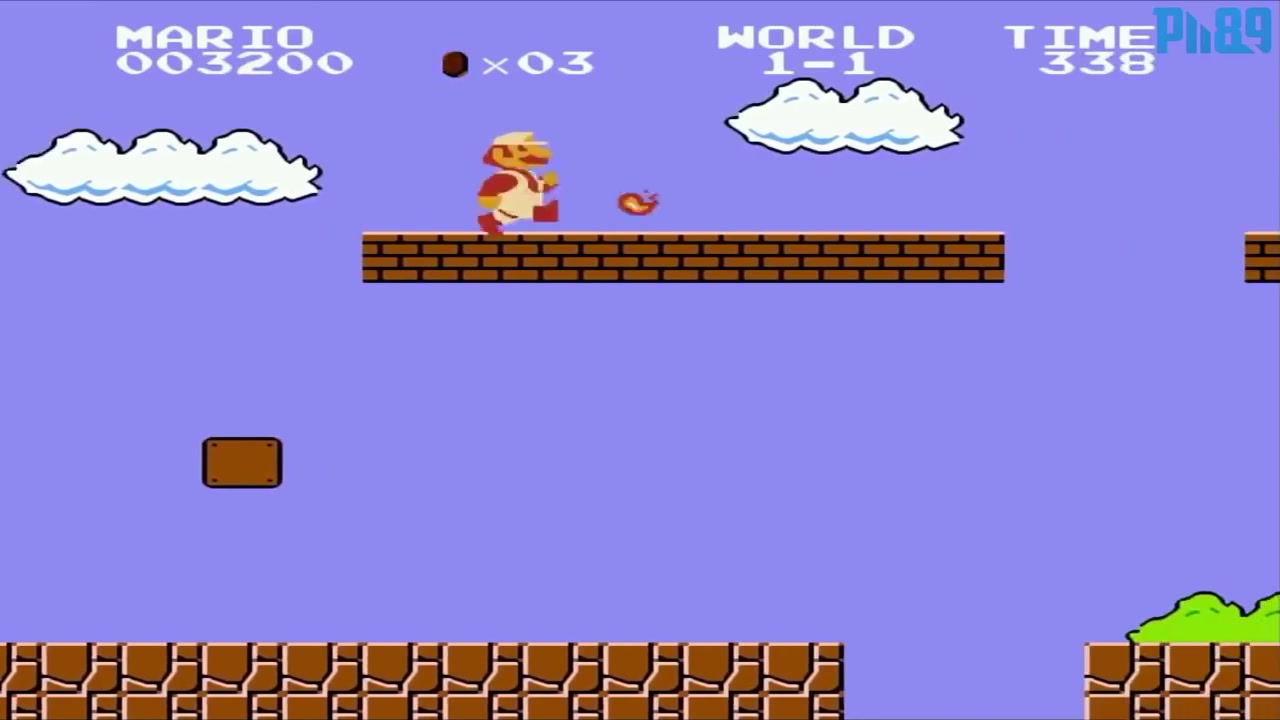mario: (462, 129, 566, 230)
